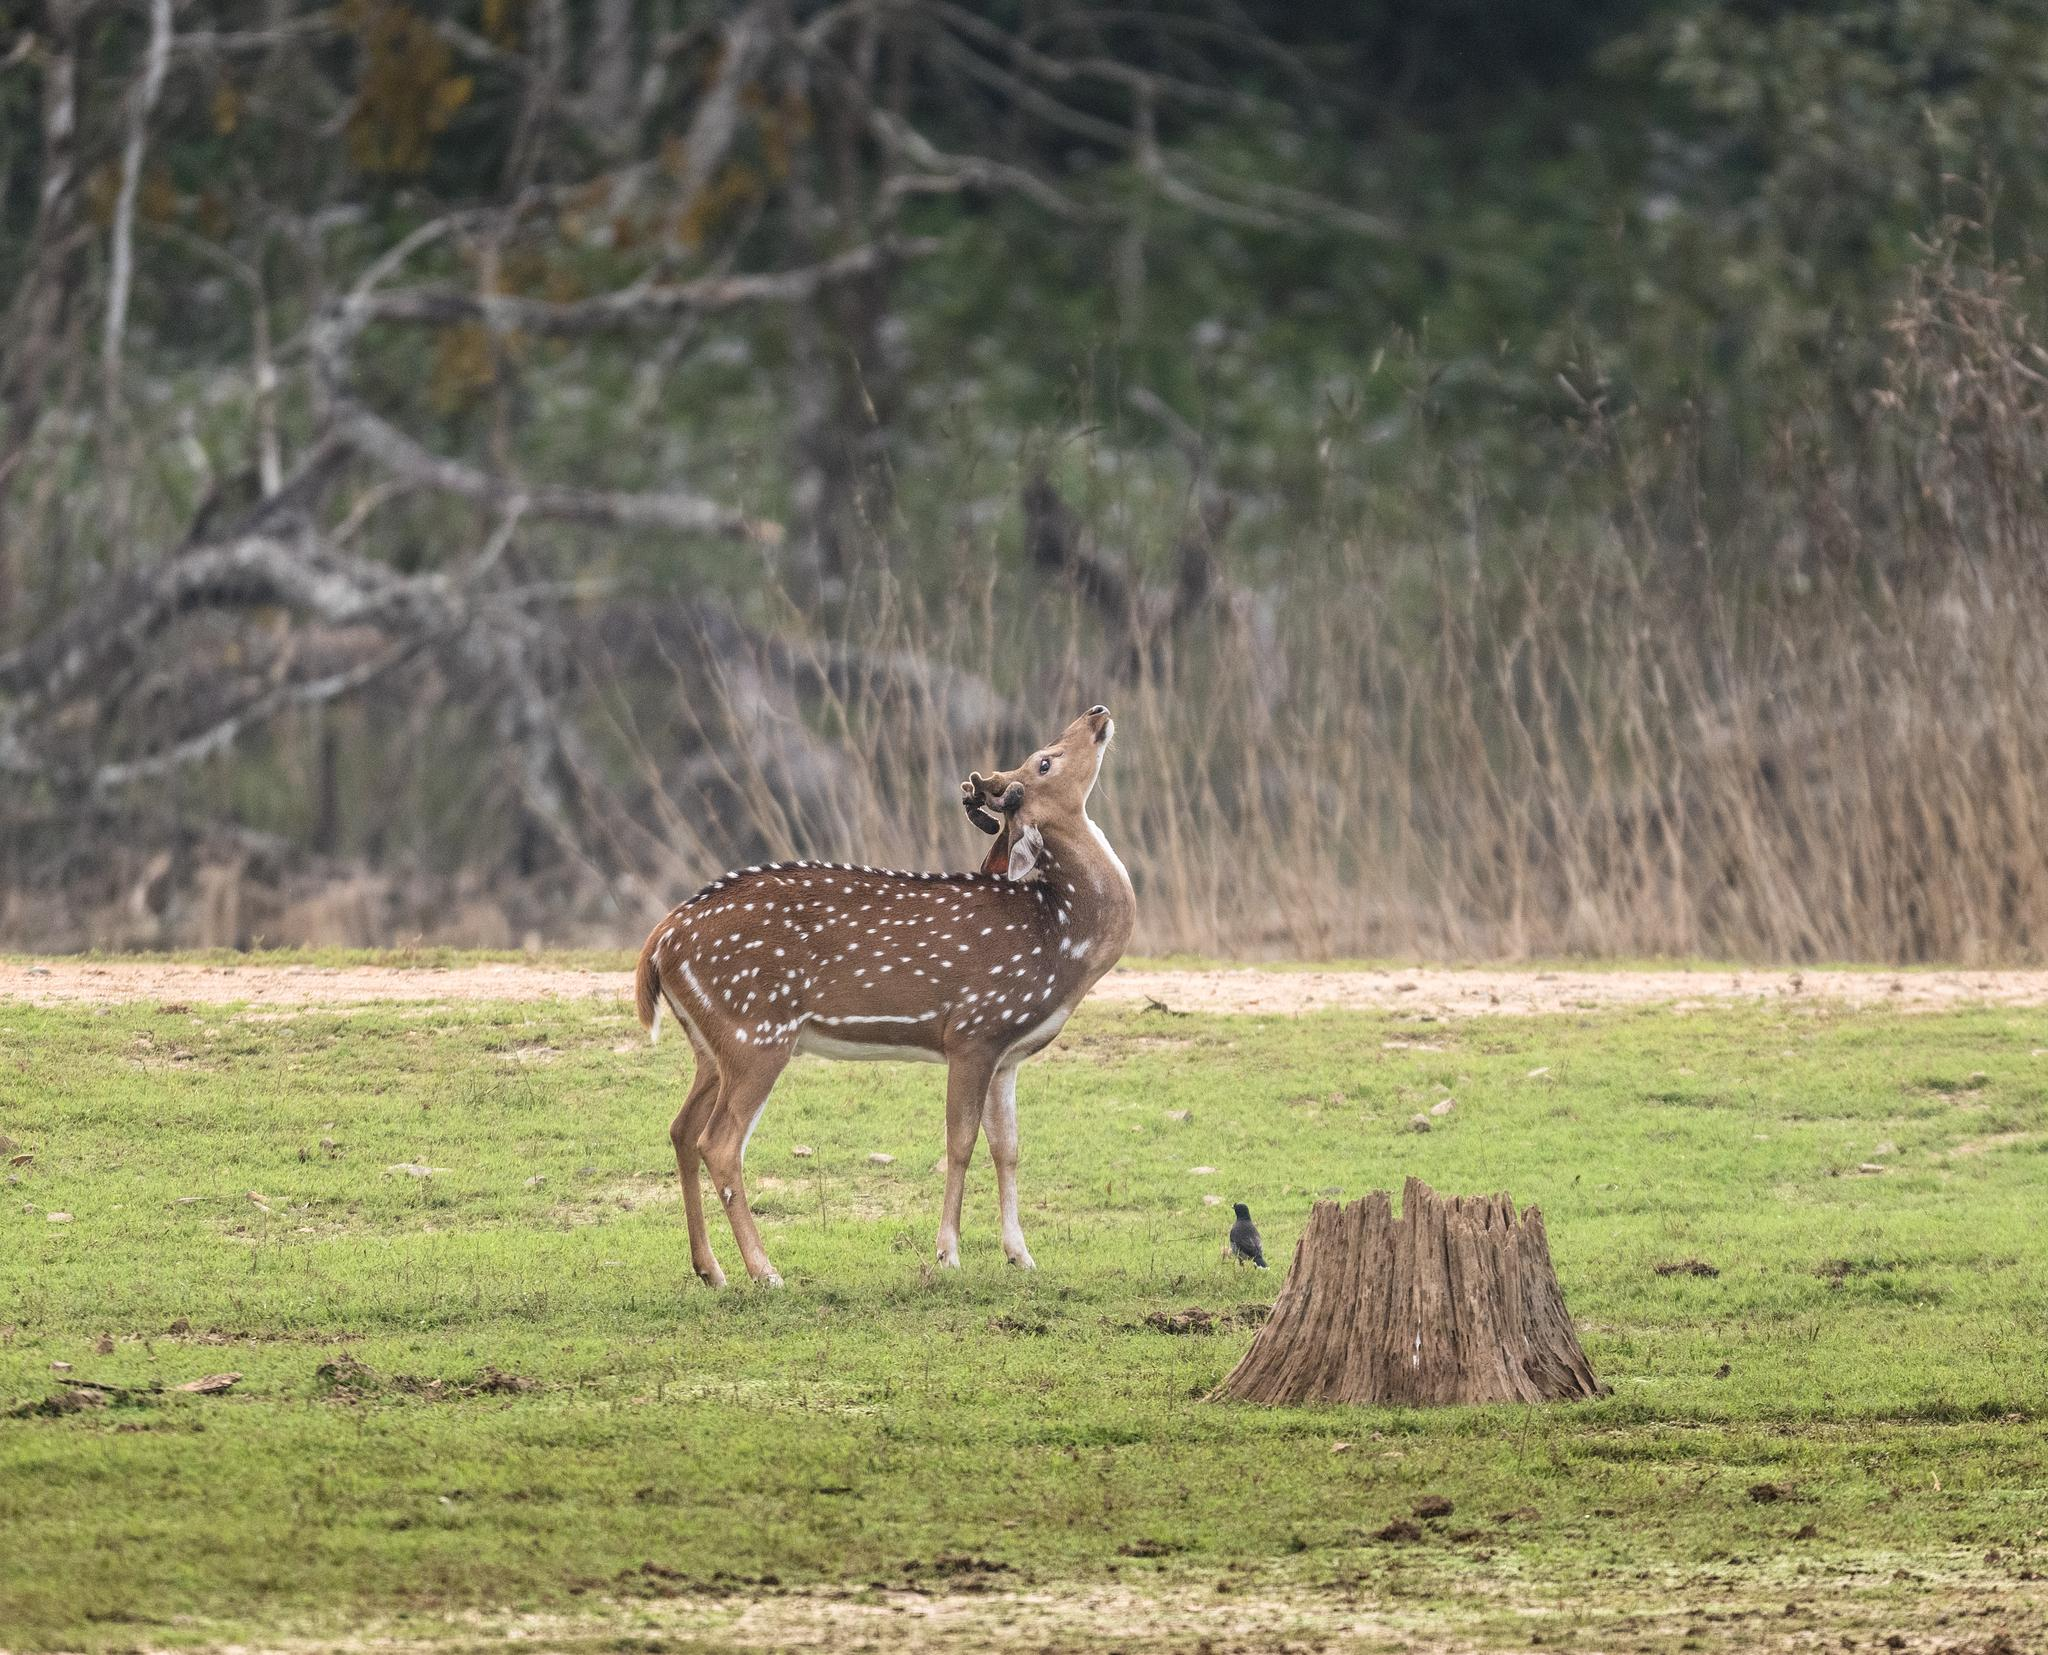Deer: (637, 704, 1136, 1287)
